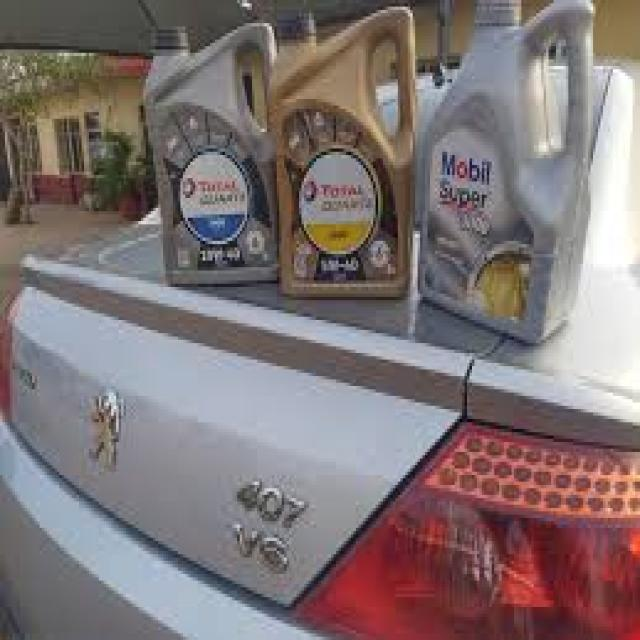motor_oil: (430, 2, 590, 339), (276, 0, 418, 298), (158, 22, 272, 291)
